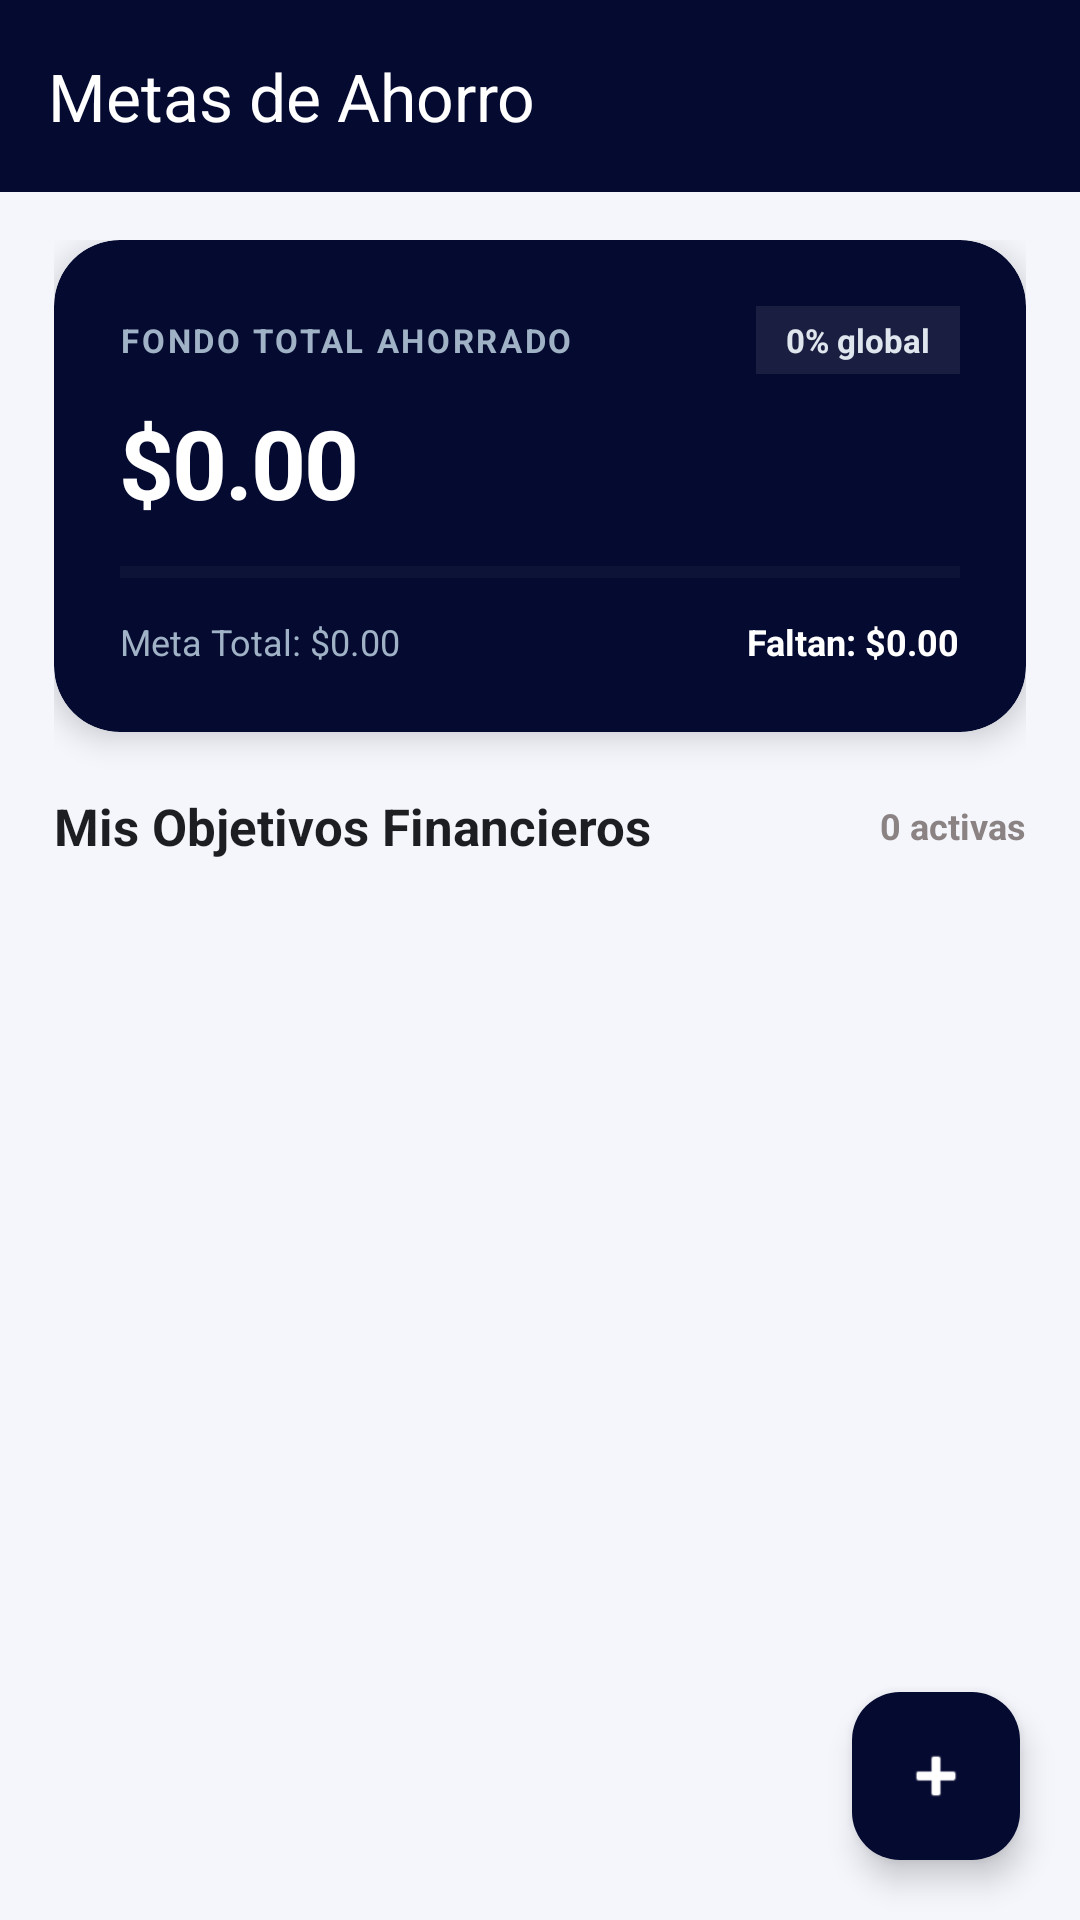

Named icons in this screenshot (1080×1920) and their centers, (x=x, y=y):
Nueva Meta: (x=936, y=1776)
